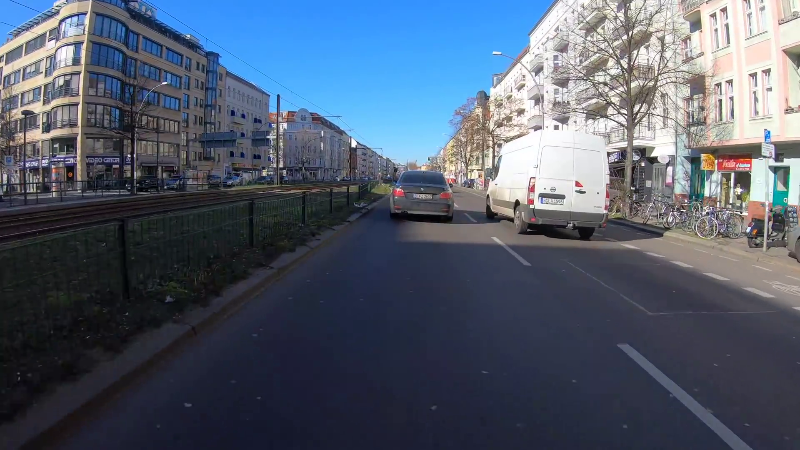Plate: (539, 195, 566, 204), (410, 192, 434, 199)
